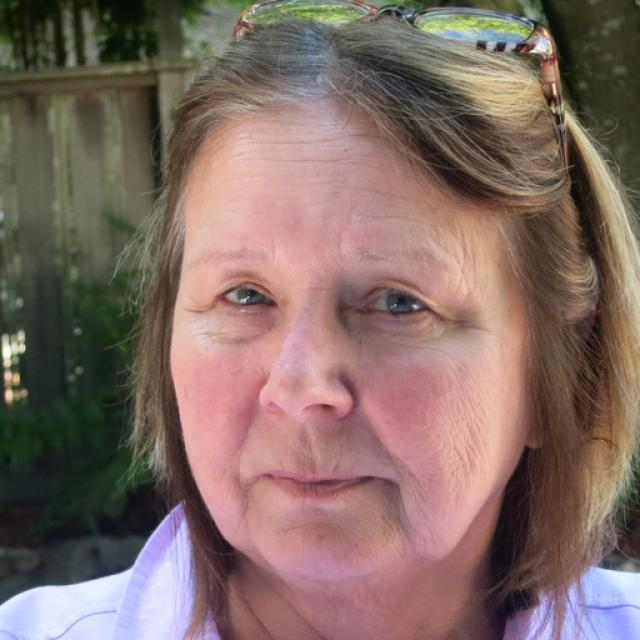content: (168, 102, 538, 582)
